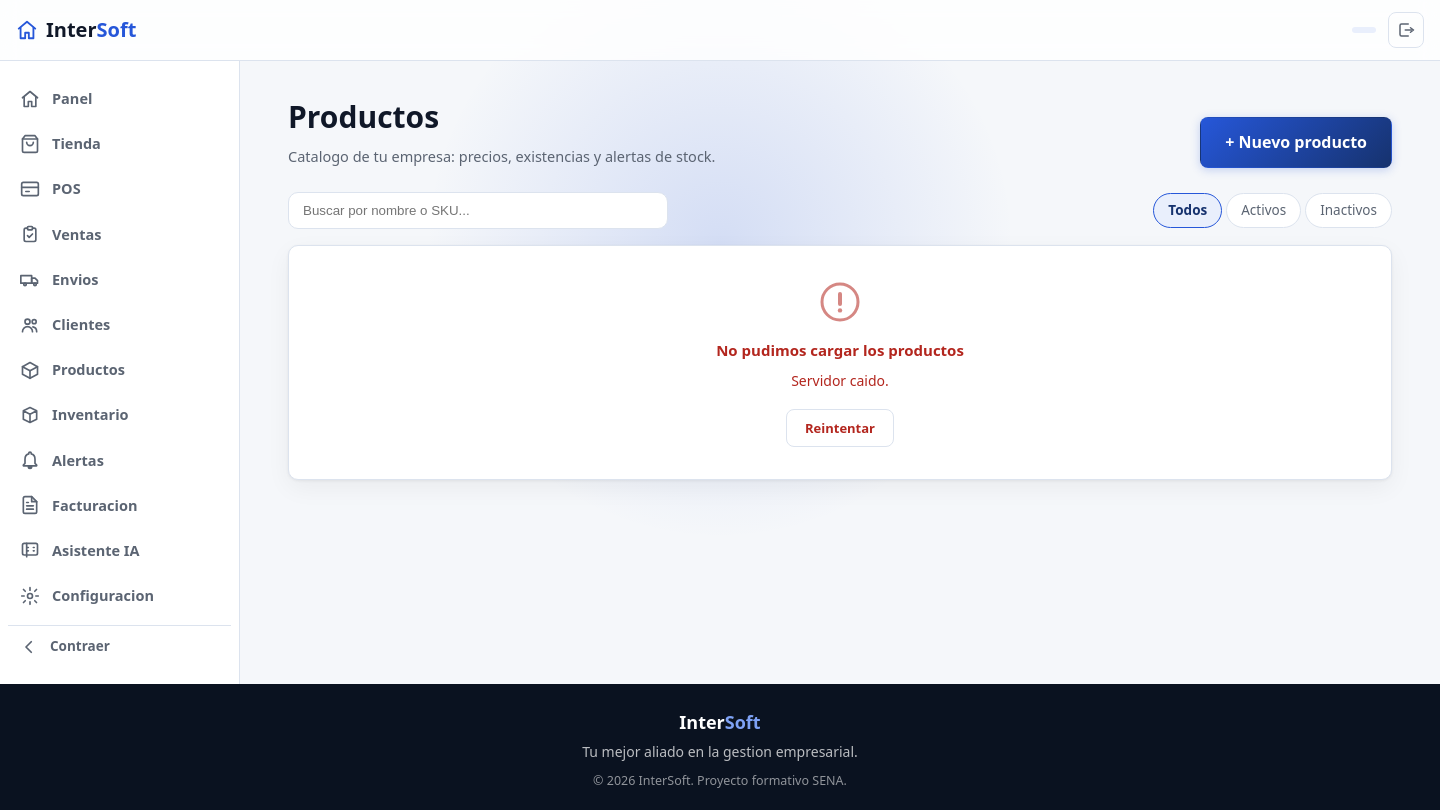
Test: ProductosComponent › muestra error de carga con estado vacio y reintenta
Click the button "Reintentar". click: (840, 428)
box: [786, 409, 894, 447]
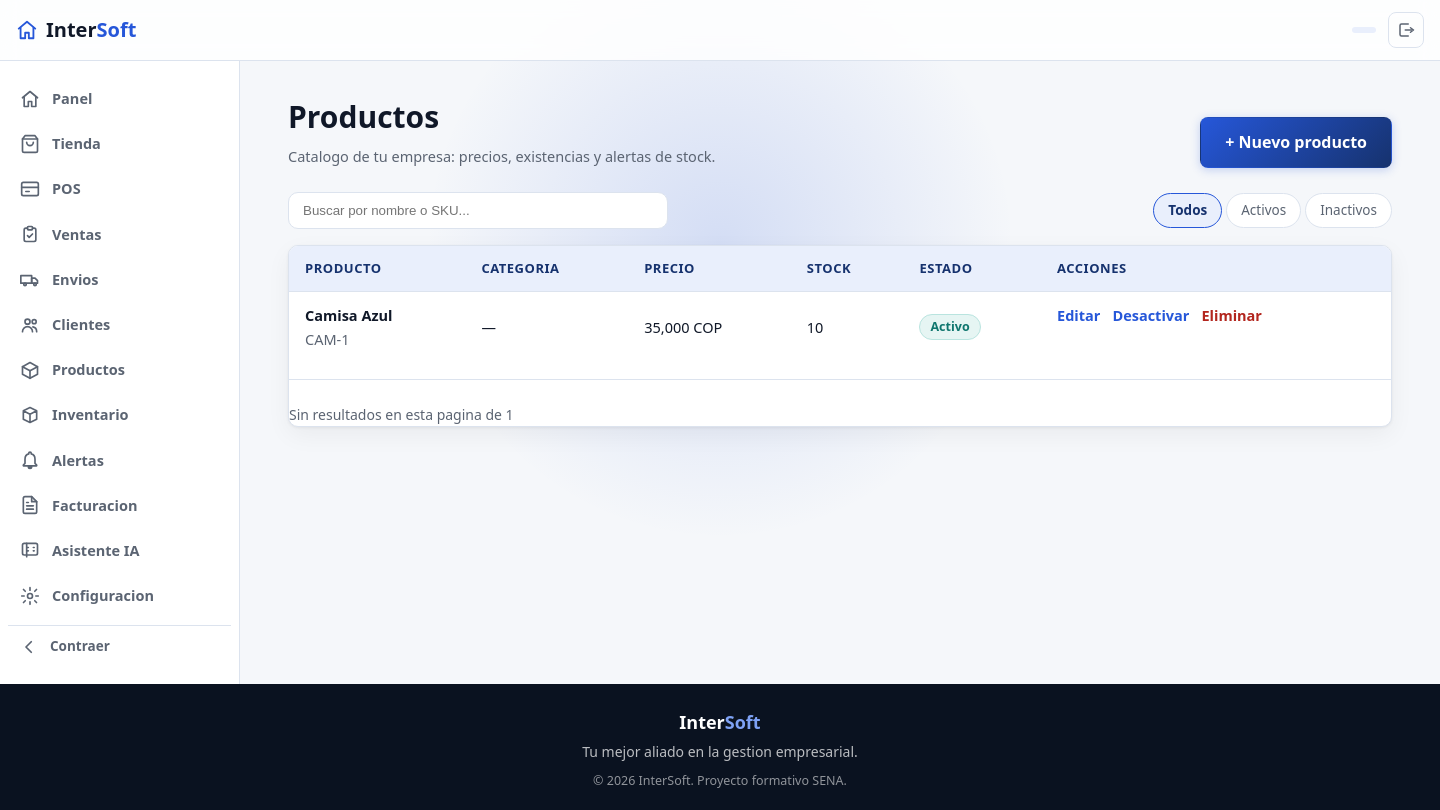
Result: the text "Camisa Azul" is shown at [305, 306, 392, 326]
